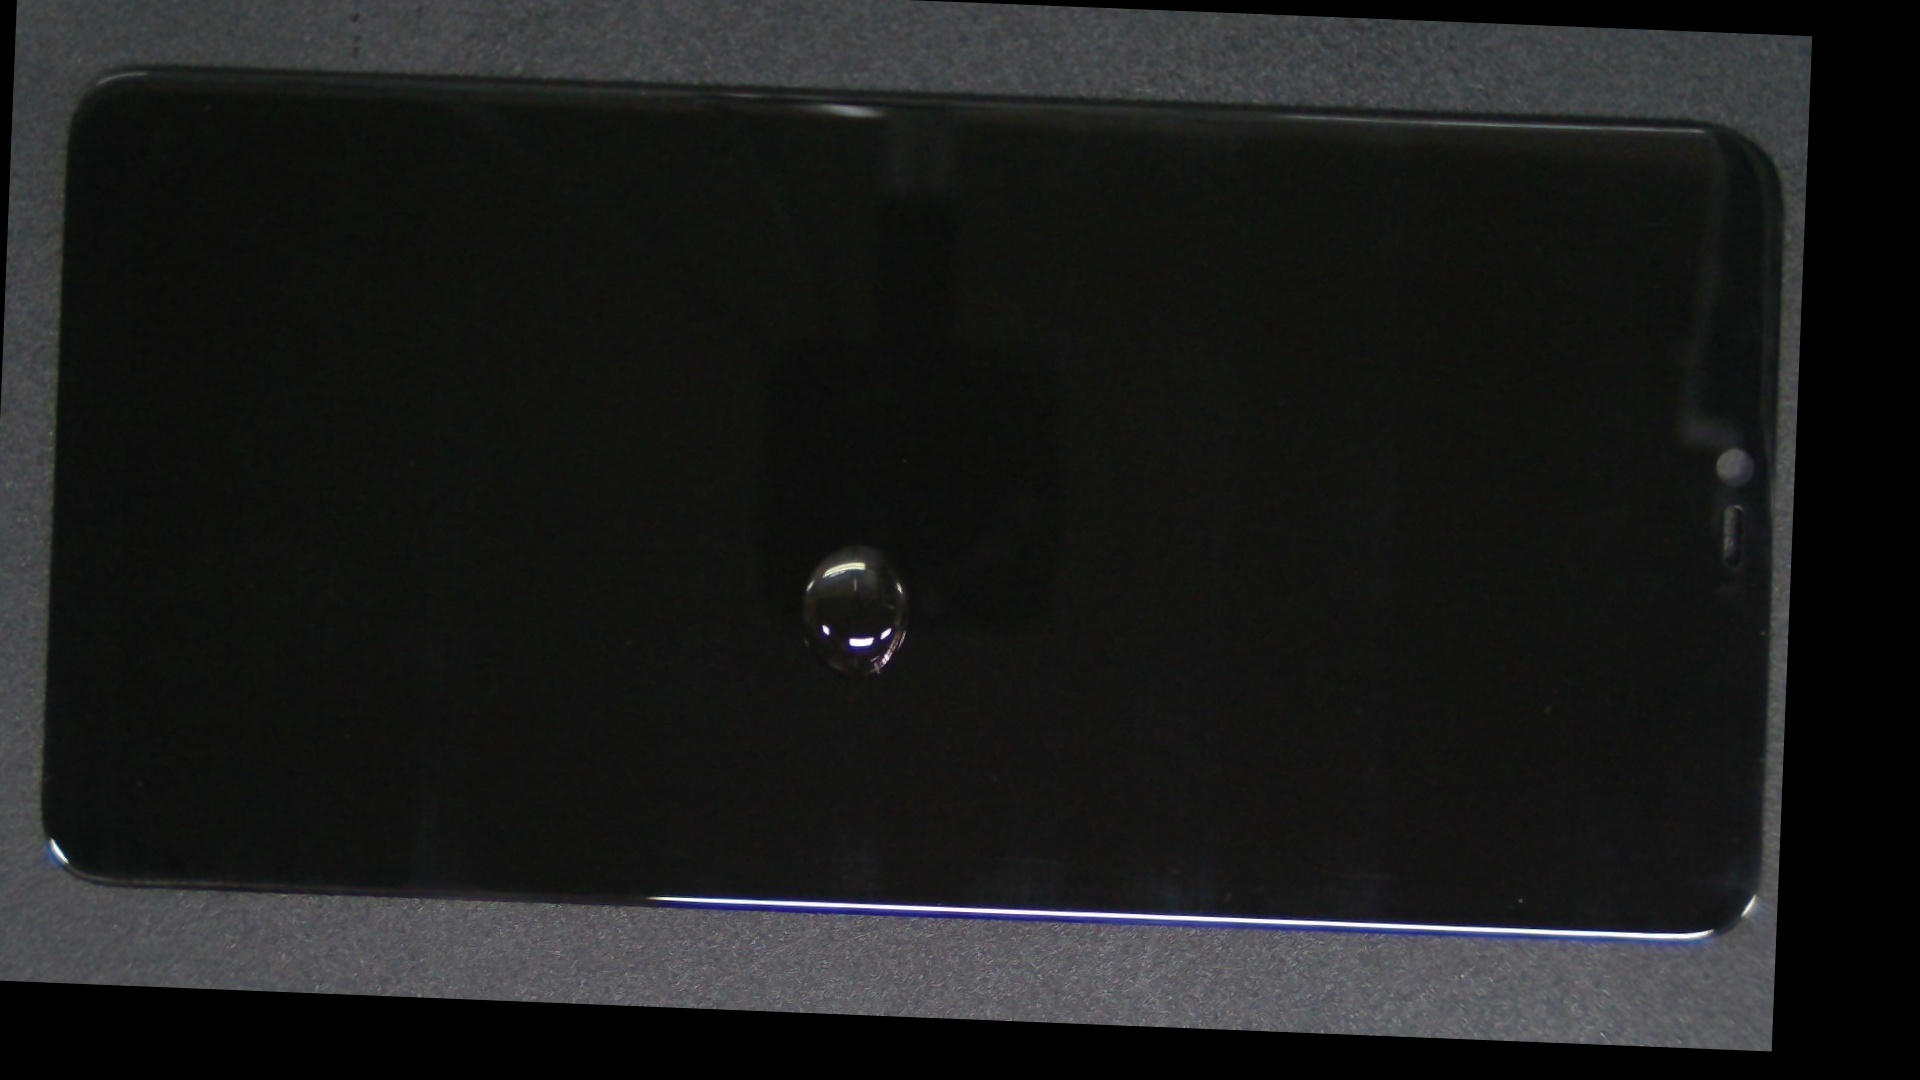oil: (413, 255, 1287, 836)
